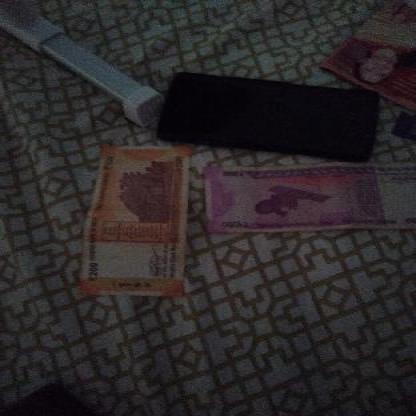New2000Back: (201, 162, 415, 228)
New200Back: (76, 146, 183, 292)
